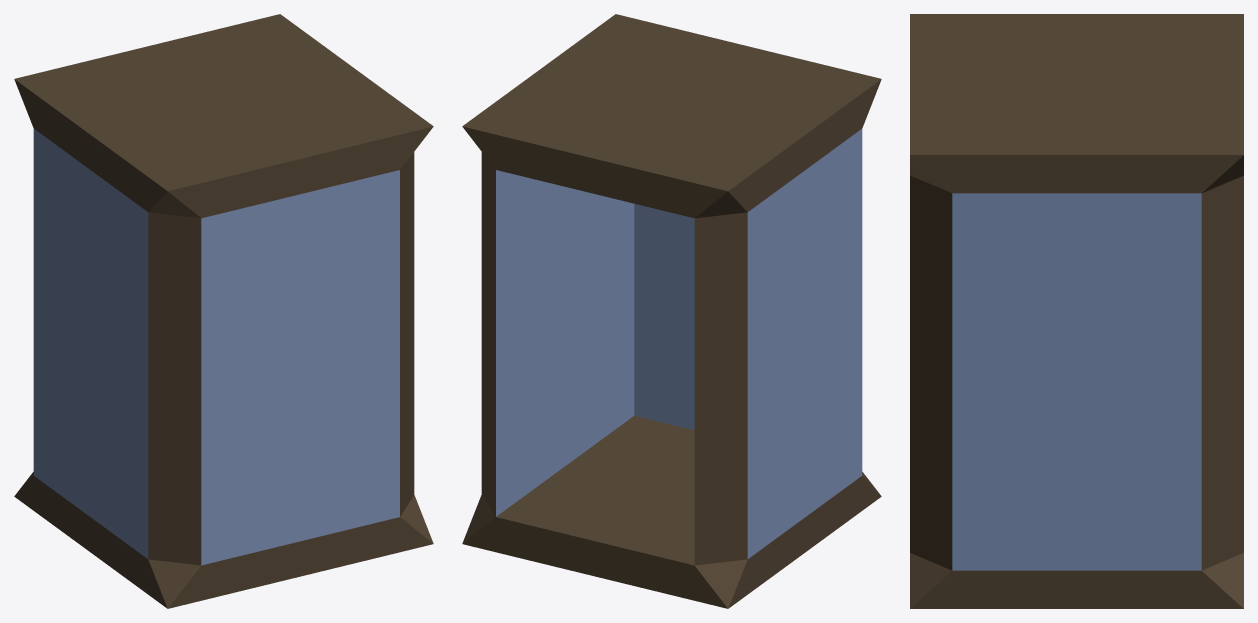
The model's file is Elevator.fbx.
The picture shows the model from 3 angles, left to right: view 1: azimuth 30°, elevation 25°; view 2: azimuth 150°, elevation 25°; view 3: azimuth 270°, elevation 25°; orthographic projection. The views are drawn at different scales.
Parts seen in each view (by area): view 1: Elevator; view 2: Elevator; view 3: Elevator.
Part boxes in pixels (left/top/right/bottom): Elevator: left=14, top=14, right=433, bottom=608; Elevator: left=462, top=14, right=881, bottom=608; Elevator: left=910, top=14, right=1243, bottom=608.
Size of the model in its own units: 400 by 600 by 400.
